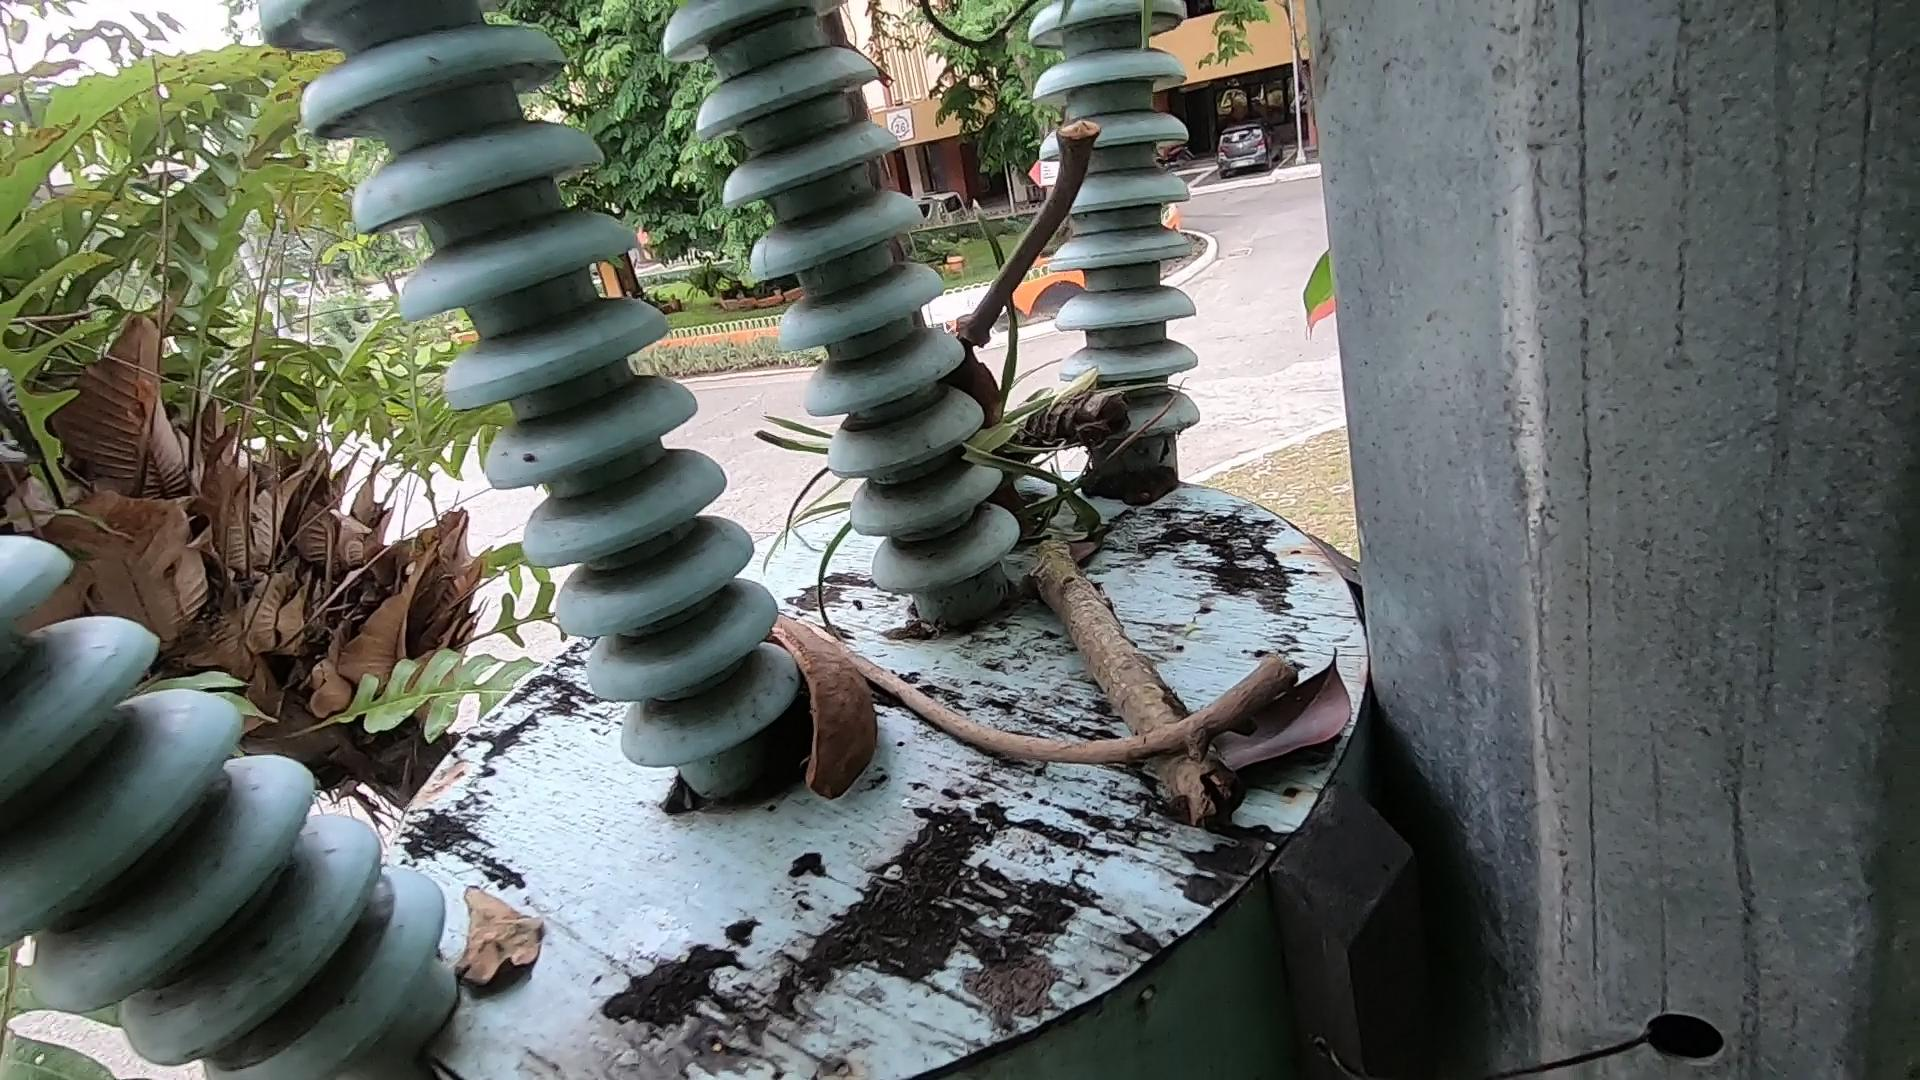leaf: (1201, 638, 1381, 840), (429, 847, 607, 1040)
mahogany fruit: (887, 280, 1283, 913), (947, 338, 1104, 618), (746, 582, 851, 814)
tree branch: (835, 632, 1335, 851), (957, 1, 1170, 348)
